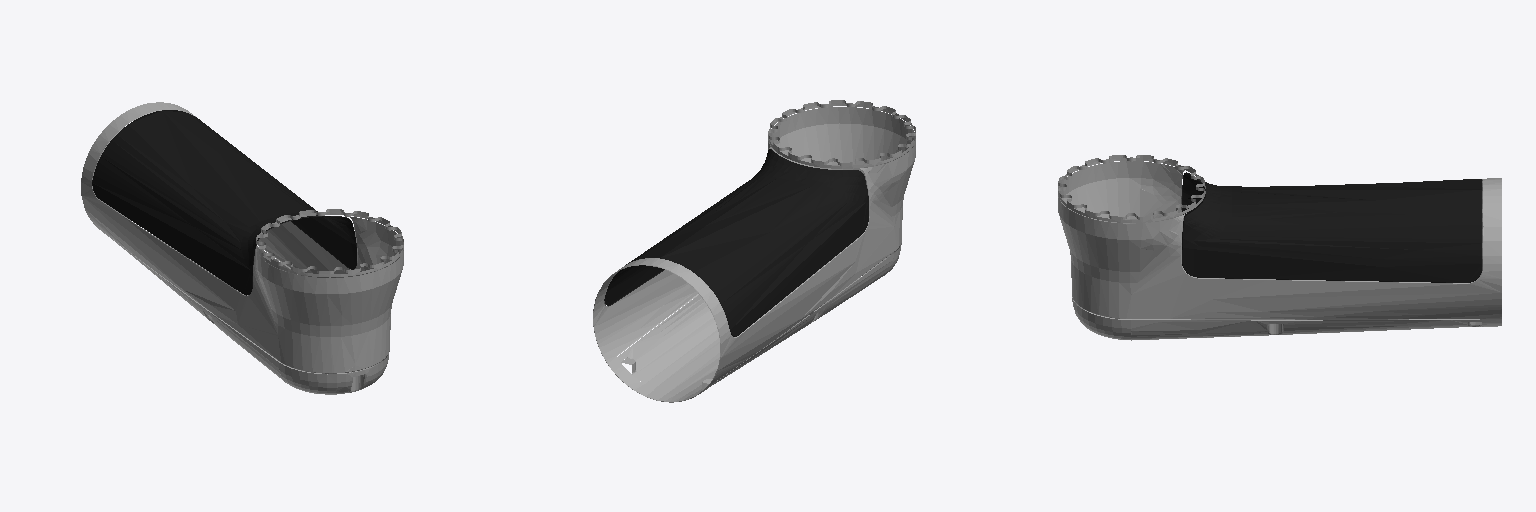
The model's file is arm-L3-mirror.obj.
3 views of the same model, side by side, from view 1: azimuth 30°, elevation 25°; view 2: azimuth 150°, elevation 25°; view 3: azimuth 270°, elevation 25° (orthographic).
Parts seen in each view (by area): view 1: __TMPOBJ_____TMPMESH__.058; view 2: __TMPOBJ_____TMPMESH__.058; view 3: __TMPOBJ_____TMPMESH__.058.
Part boxes in pixels (x1,y1,x2,y2): __TMPOBJ_____TMPMESH__.058: (81, 102, 403, 394); __TMPOBJ_____TMPMESH__.058: (593, 100, 915, 402); __TMPOBJ_____TMPMESH__.058: (1058, 155, 1501, 340).
Bounding box in the file's own units: 0.074 × 0.078 × 0.2219.